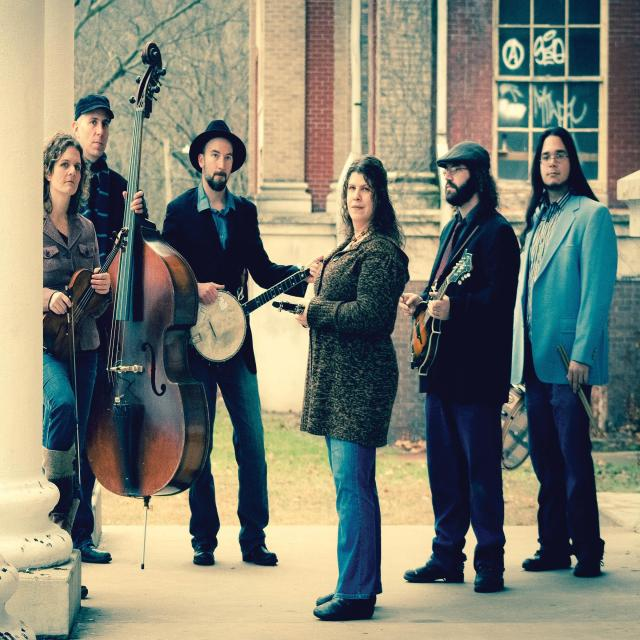body: (160, 118, 326, 566), (271, 155, 413, 624), (389, 138, 522, 600), (510, 124, 618, 583), (42, 132, 113, 538), (70, 90, 150, 270)
